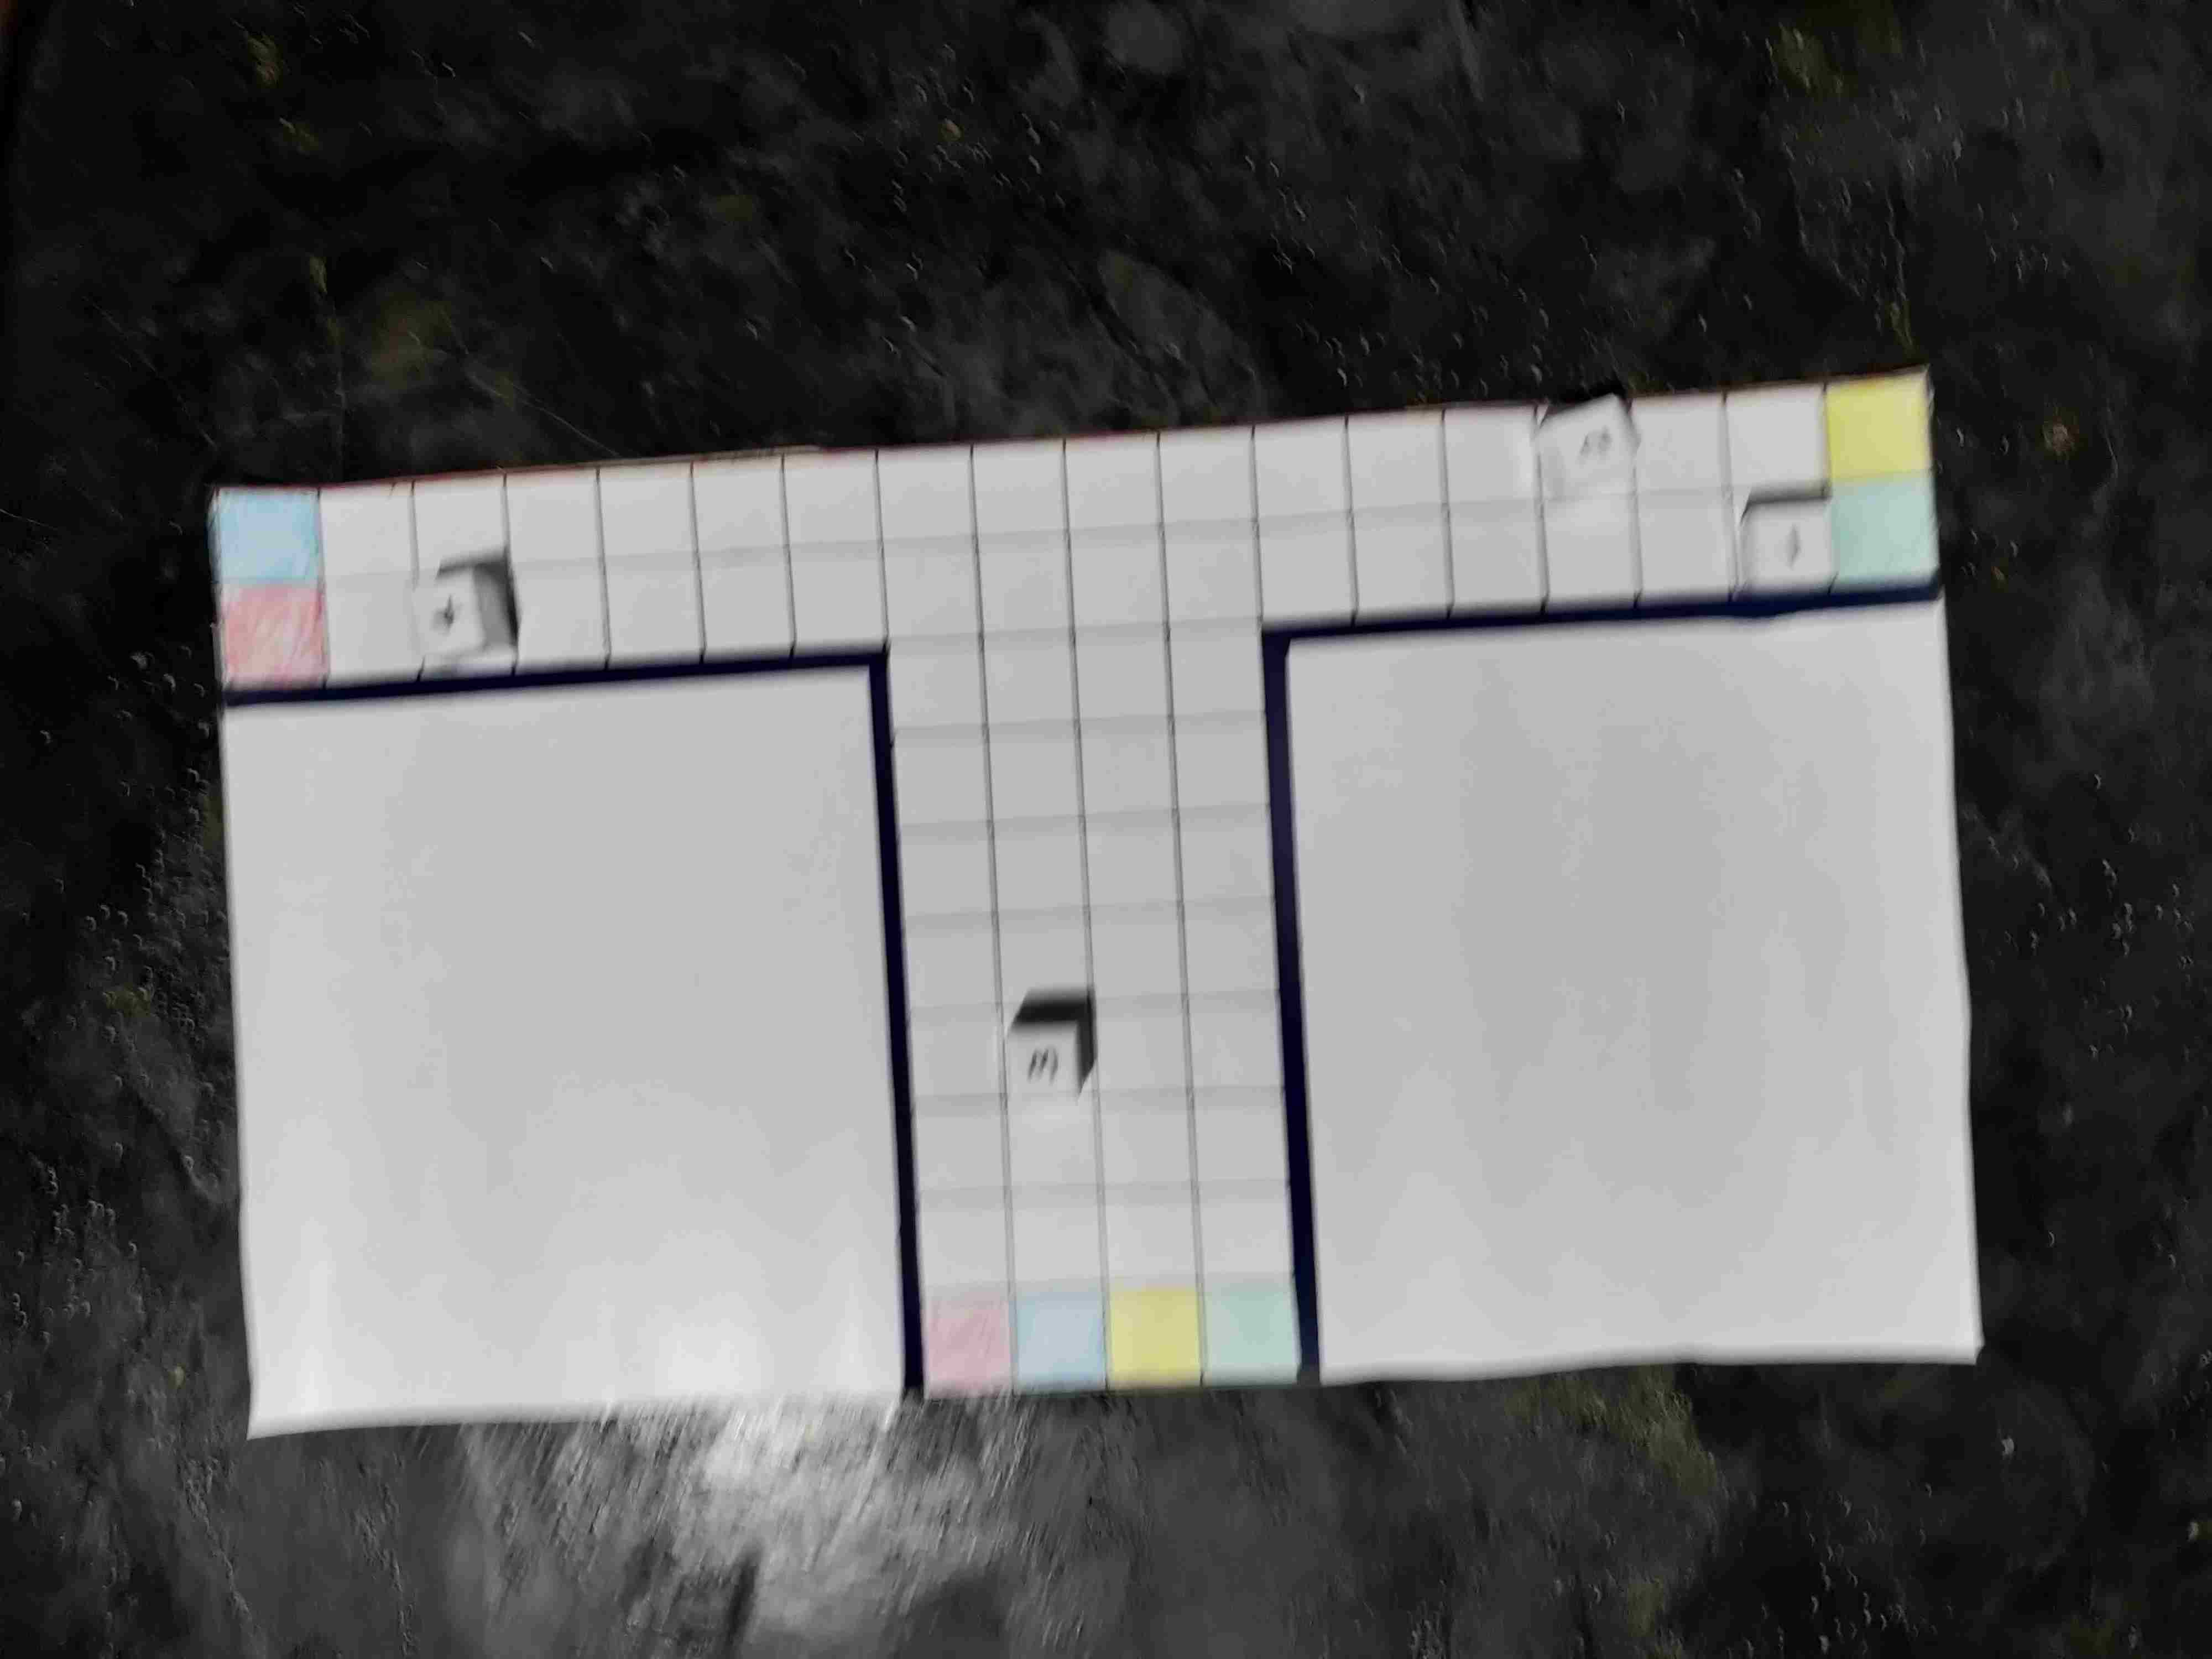arena: (214, 371, 1942, 1401)
bot: (1743, 502, 1836, 594), (1547, 396, 1635, 491), (411, 577, 482, 666), (1017, 1030, 1085, 1093)
